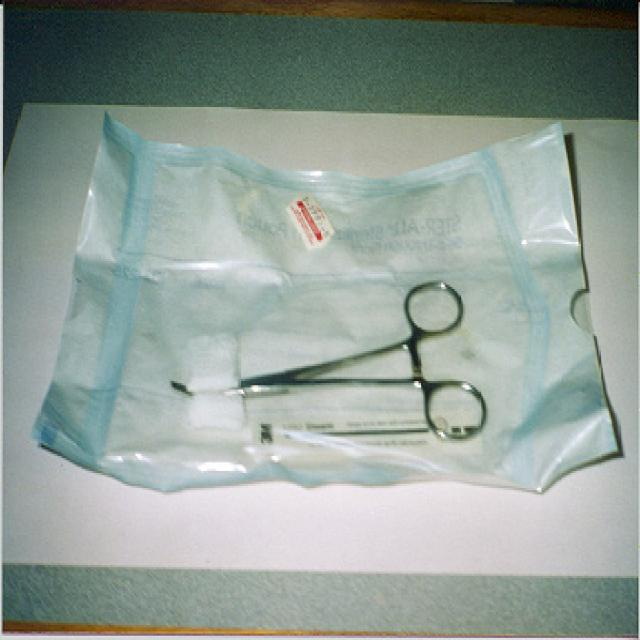B3: (169, 274, 508, 458)
